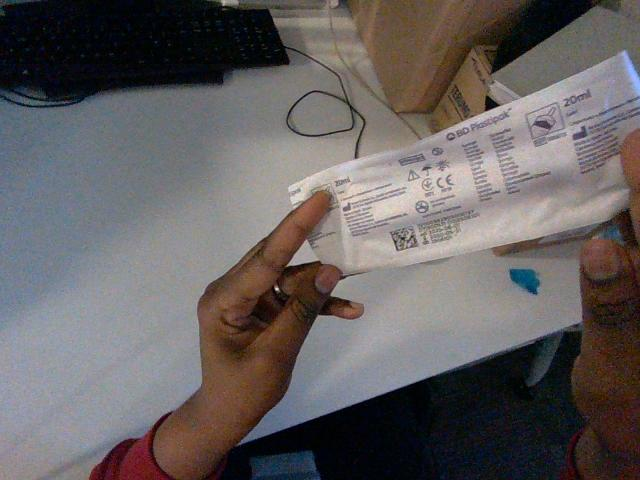syringe: (289, 52, 639, 274)
